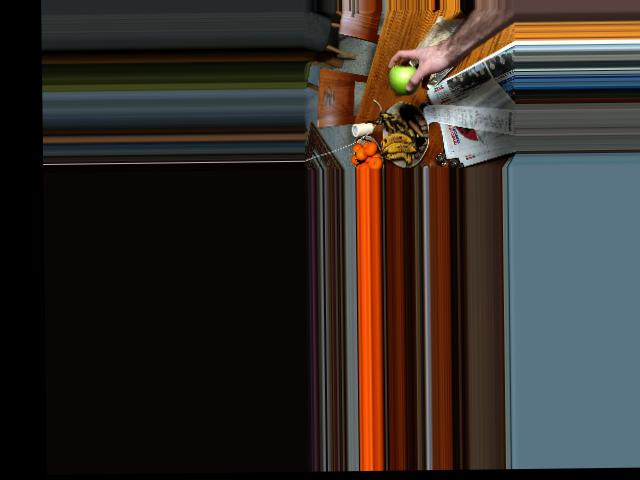apple: (386, 64, 423, 94)
